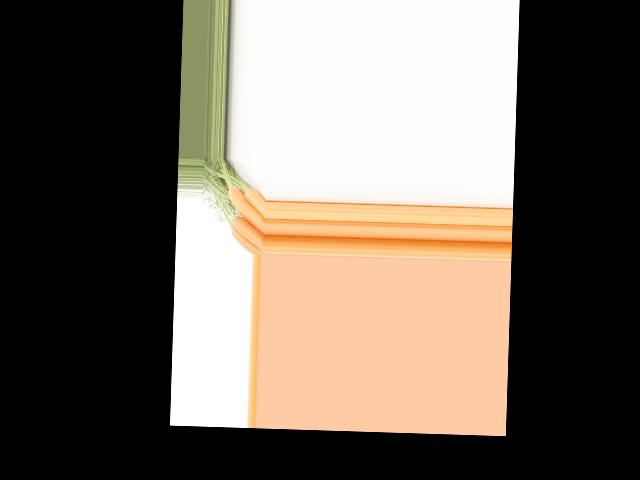carrot: (242, 187, 266, 216)
